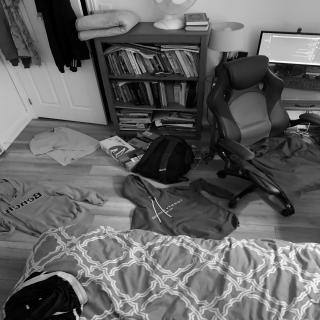Blue Hoodie: (118, 174, 239, 240)
Maroon T-Shirt: (241, 133, 320, 206)
Yellow Hoodie: (0, 174, 107, 246)
Yellow T-Shirt: (26, 124, 101, 168)
